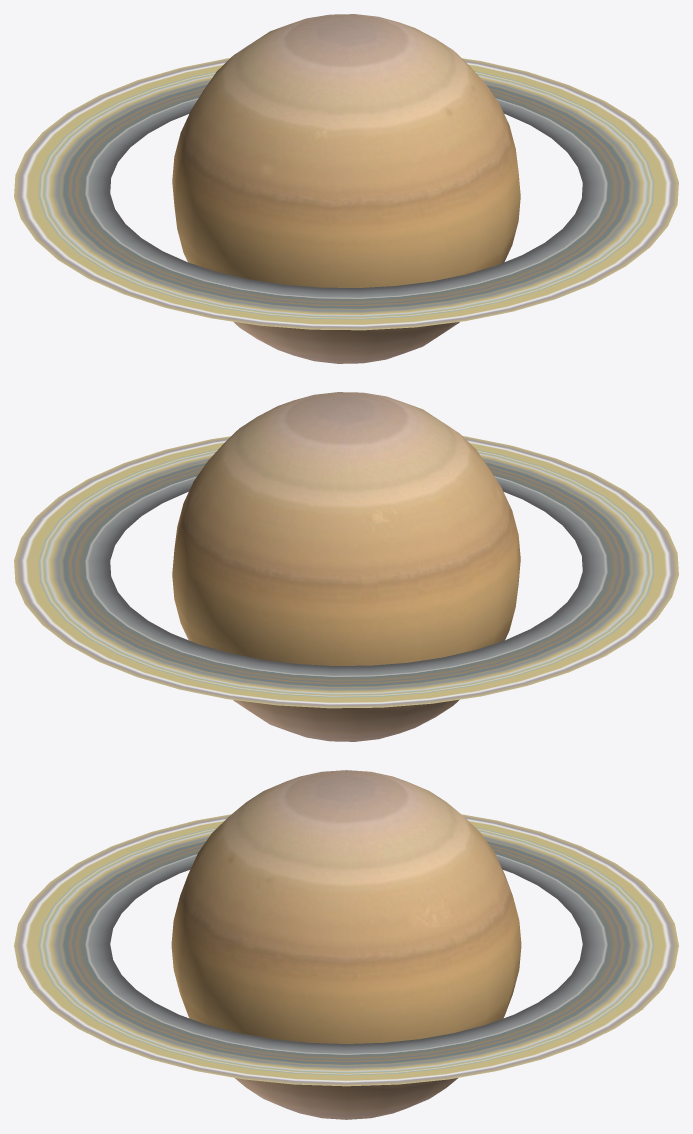
The model's file is saturn.gltf.
The picture shows the model from 3 angles, top to bottom: view 1: azimuth 30°, elevation 25°; view 2: azimuth 150°, elevation 25°; view 3: azimuth 270°, elevation 25°; orthographic projection.
Visible parts, largest first — view 1: Planet, Cylinder; view 2: Planet, Cylinder; view 3: Planet, Cylinder.
Boxes of the visible parts, x1,y1,x2,y2 form: Planet: (172, 14, 520, 363); Cylinder: (14, 58, 678, 330); Planet: (172, 392, 520, 741); Cylinder: (14, 436, 678, 708); Planet: (171, 770, 521, 1119); Cylinder: (14, 814, 678, 1086).
Size of the model in its own units: 3.8 by 2 by 3.8.
Materials: 2 (2 with a texture image).
